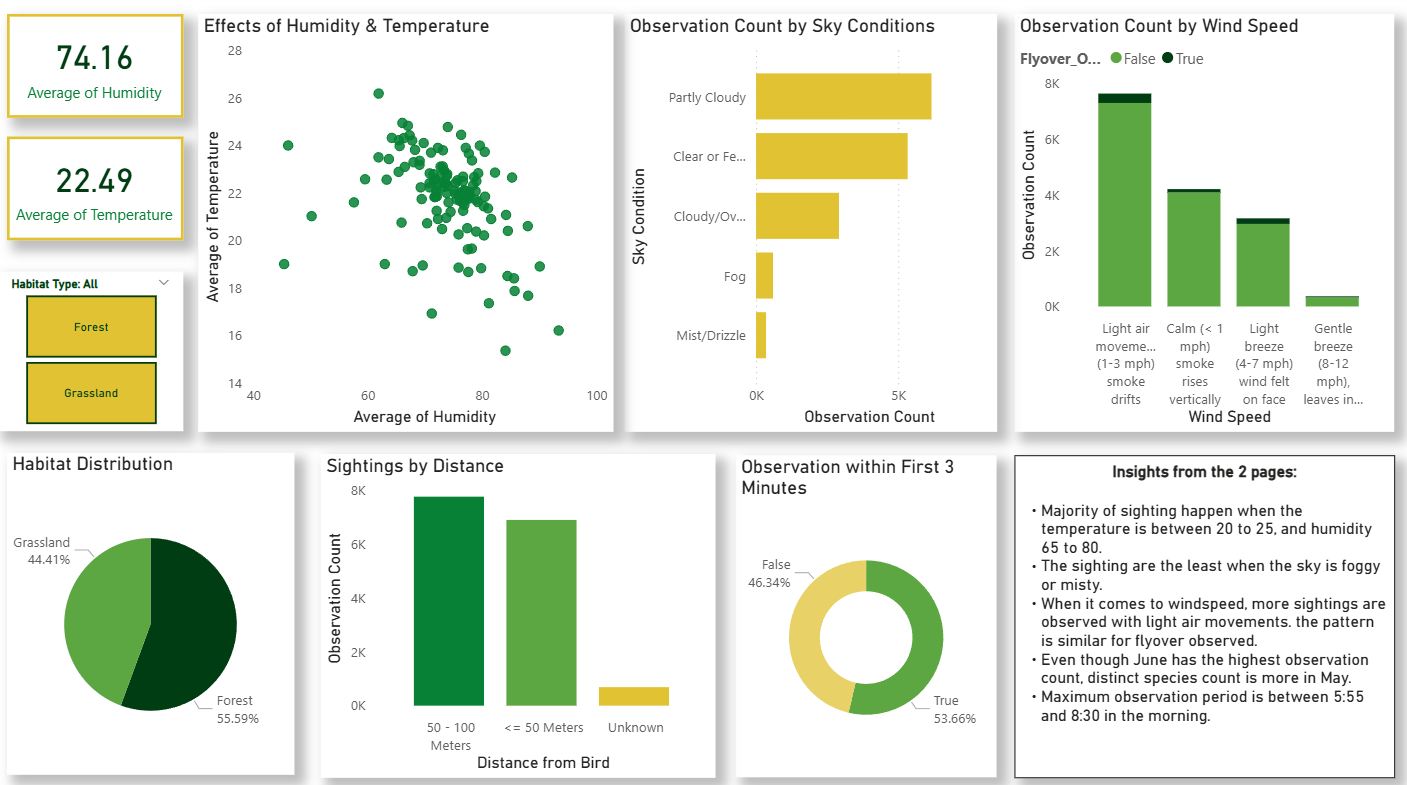

This screenshot's page, from the dashboard's own definition file:
{"tool":"powerbi","page":{"name":"Environmental Impact Analysis","canvas":[1280,720],"ordinal":1},"visuals":[{"type":"columnChart","title":"Observation Count by Wind Speed","fields":{"Category":["cleaned_bird_dataset.Wind"],"Y":["CountNonNull(cleaned_bird_dataset.Admin_Unit_Code)"],"Series":["cleaned_bird_dataset.Flyover_Observed"]},"box":[917.5,18,342.6,376.5],"z":0},{"type":"clusteredBarChart","title":"Observation Count by Sky Conditions","fields":{"Category":["cleaned_bird_dataset.Sky","cleaned_bird_dataset.Flyover_Observed"],"Y":["CountNonNull(cleaned_bird_dataset.Admin_Unit_Code)"]},"box":[565.8,18,335.9,376.5],"z":1000},{"type":"card","fields":{"Values":["Avg(cleaned_bird_dataset.Humidity)"]},"box":[9,18,158.9,93.6],"z":2000},{"type":"card","fields":{"Values":["Avg(cleaned_bird_dataset.Temperature)"]},"box":[9,128.5,158.9,93.6],"z":3000},{"type":"slicer","fields":{"Values":["cleaned_bird_dataset.Location_Type"]},"box":[0,250.2,167.9,144.3],"z":4000},{"type":"scatterChart","title":"Effects of Humidity & Temperature","fields":{"Y":["Avg(cleaned_bird_dataset.Temperature)"],"X":["Avg(cleaned_bird_dataset.Humidity)"],"Category":["cleaned_bird_dataset.Common_Name"]},"box":[181.5,18,374.2,376.5],"z":5000},{"type":"donutChart","title":"Observation within First 3 Minutes","fields":{"Category":["cleaned_bird_dataset.Initial_Three_Min_Cnt"],"Y":["CountNonNull(cleaned_bird_dataset.Initial_Three_Min_Cnt)"]},"box":[666.1,415.9,235.6,290.8],"z":6000},{"type":"clusteredColumnChart","title":"Sightings by Distance","fields":{"Category":["cleaned_bird_dataset.Distance"],"Y":["CountNonNull(cleaned_bird_dataset.Admin_Unit_Code)"]},"box":[291.9,414.8,356.2,291.9],"z":7000},{"type":"pieChart","title":"Habitat Distribution","fields":{"Category":["cleaned_bird_dataset.Location_Type"],"Y":["CountNonNull(cleaned_bird_dataset.Location_Type)"]},"box":[9,413.7,259.2,290.8],"z":8000},{"type":"textbox","box":[917,416,343,291],"z":9000}]}

Visuals, with their boxes in screenshot pixels (x1, y1, x2, y2), scaled from the page's 1280x720 canvas onto the 1407x785 screenshot:
"Observation Count by Wind Speed" columnChart: bbox(1009, 20, 1385, 430)
"Observation Count by Sky Conditions" clusteredBarChart: bbox(622, 20, 991, 430)
card - Avg(cleaned_bird_dataset.Humidity): bbox(10, 20, 185, 122)
card - Avg(cleaned_bird_dataset.Temperature): bbox(10, 140, 185, 242)
slicer - cleaned_bird_dataset.Location_Type: bbox(0, 273, 185, 430)
"Effects of Humidity & Temperature" scatterChart: bbox(200, 20, 611, 430)
"Observation within First 3 Minutes" donutChart: bbox(732, 453, 991, 770)
"Sightings by Distance" clusteredColumnChart: bbox(321, 452, 712, 770)
"Habitat Distribution" pieChart: bbox(10, 451, 295, 768)
textbox: bbox(1008, 454, 1385, 771)
